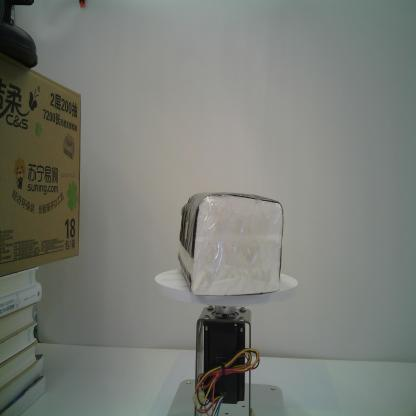Tissue: (176, 190, 284, 299)
